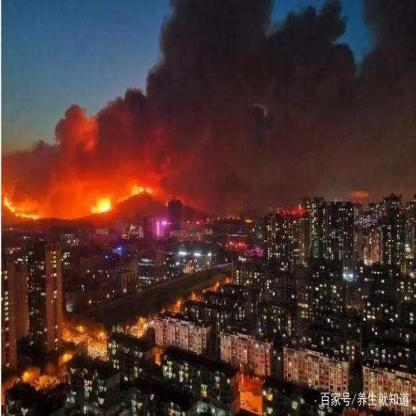fire: (4, 183, 157, 222)
other: (123, 278, 238, 375), (51, 309, 115, 362), (14, 353, 75, 402), (234, 364, 266, 411)
smoke: (15, 16, 406, 193)
